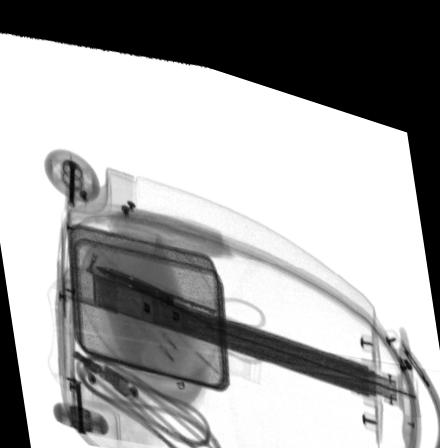Scissors: (93, 258, 267, 351)
